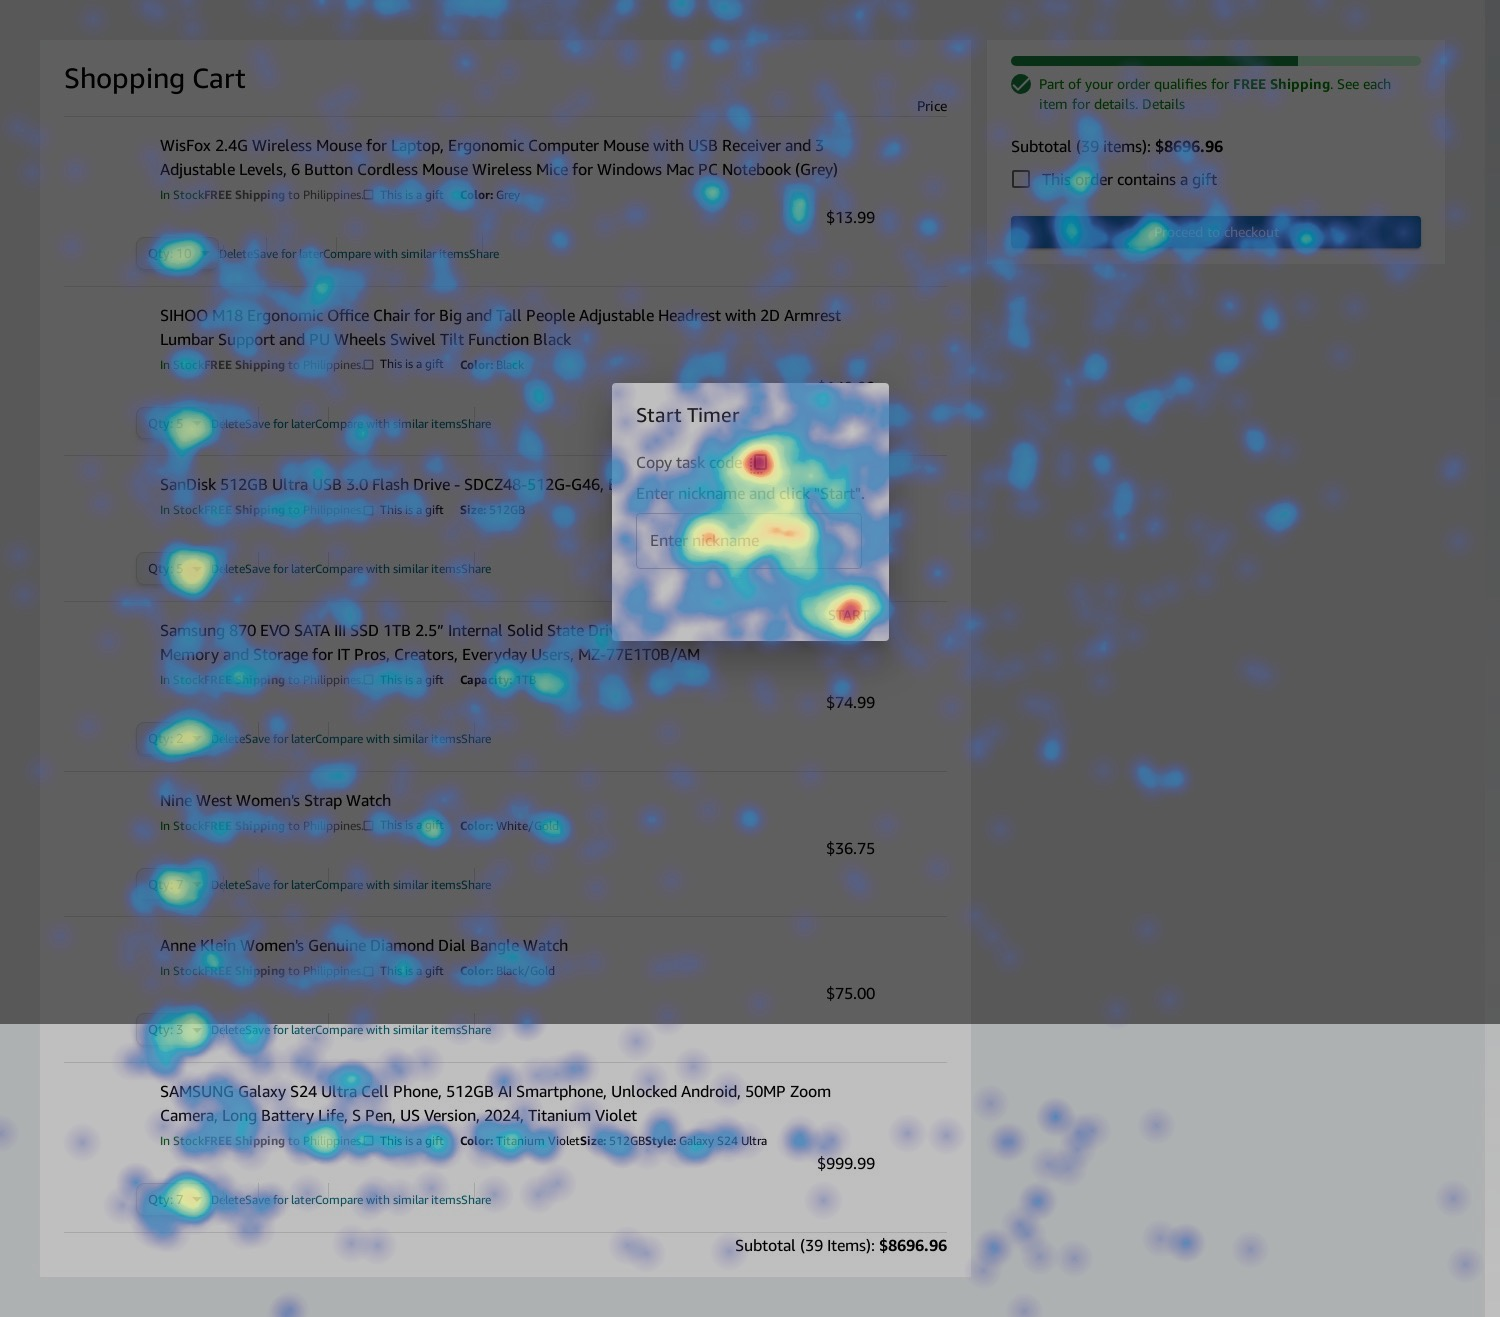checkout: (1009, 215, 1421, 249)
nickname: (636, 515, 860, 569)
qty: (139, 405, 218, 442), (138, 717, 217, 753), (131, 870, 210, 906), (135, 1008, 214, 1045), (136, 1181, 216, 1218), (138, 236, 217, 272), (138, 552, 217, 588)
start: (807, 598, 883, 631)
task_code: (742, 446, 778, 479)
